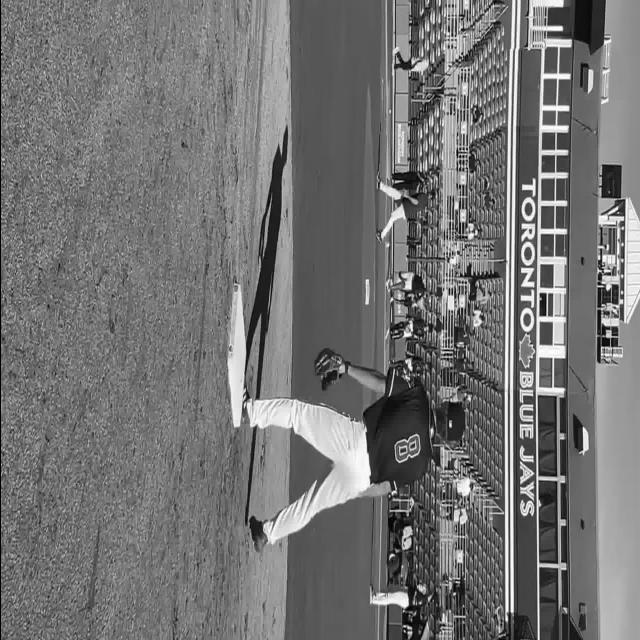base: (227, 283, 246, 433)
baseball_glove: (314, 347, 346, 390)
shoe: (248, 515, 268, 552), (240, 376, 250, 424), (376, 169, 380, 190), (376, 228, 382, 242), (369, 584, 373, 604), (392, 46, 398, 54)
